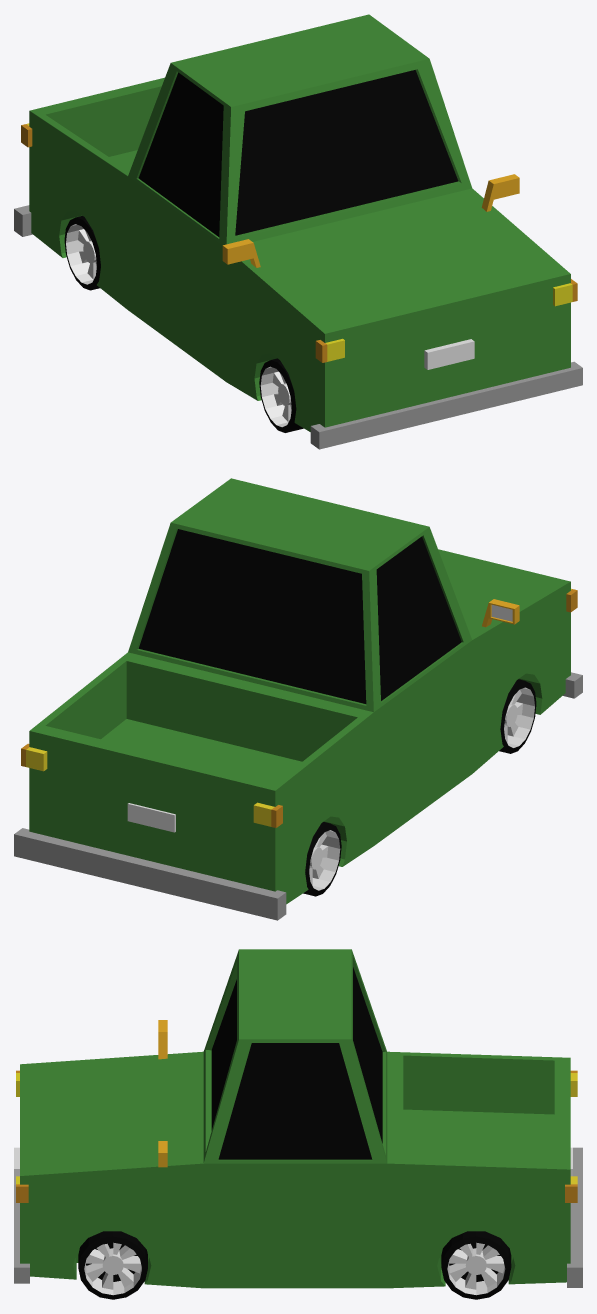
Rendered from mobil bak.fbx.
3 views of the same model, one above another, from view 1: azimuth 30°, elevation 25°; view 2: azimuth 150°, elevation 25°; view 3: azimuth 270°, elevation 25° (orthographic). The views are drawn at different scales.
Parts seen in each view (by area): view 1: Cube, Cylinder.002, Cylinder.003; view 2: Cube, Cylinder.003, Cylinder.002; view 3: Cube, Cylinder.001, Cylinder.
Part boxes in pixels (x1=…): Cube: x1=14, y1=14, x2=582, y2=449; Cylinder.002: x1=259, y1=358, x2=303, y2=432; Cylinder.003: x1=64, y1=216, x2=100, y2=290; Cube: x1=14, y1=478, x2=582, y2=920; Cylinder.003: x1=303, y1=822, x2=341, y2=896; Cylinder.002: x1=499, y1=679, x2=536, y2=753; Cube: x1=14, y1=949, x2=582, y2=1288; Cylinder.001: x1=441, y1=1231, x2=511, y2=1299; Cylinder: x1=78, y1=1231, x2=147, y2=1299.
Bounding box in the file's own units: 457 × 402 × 826.
